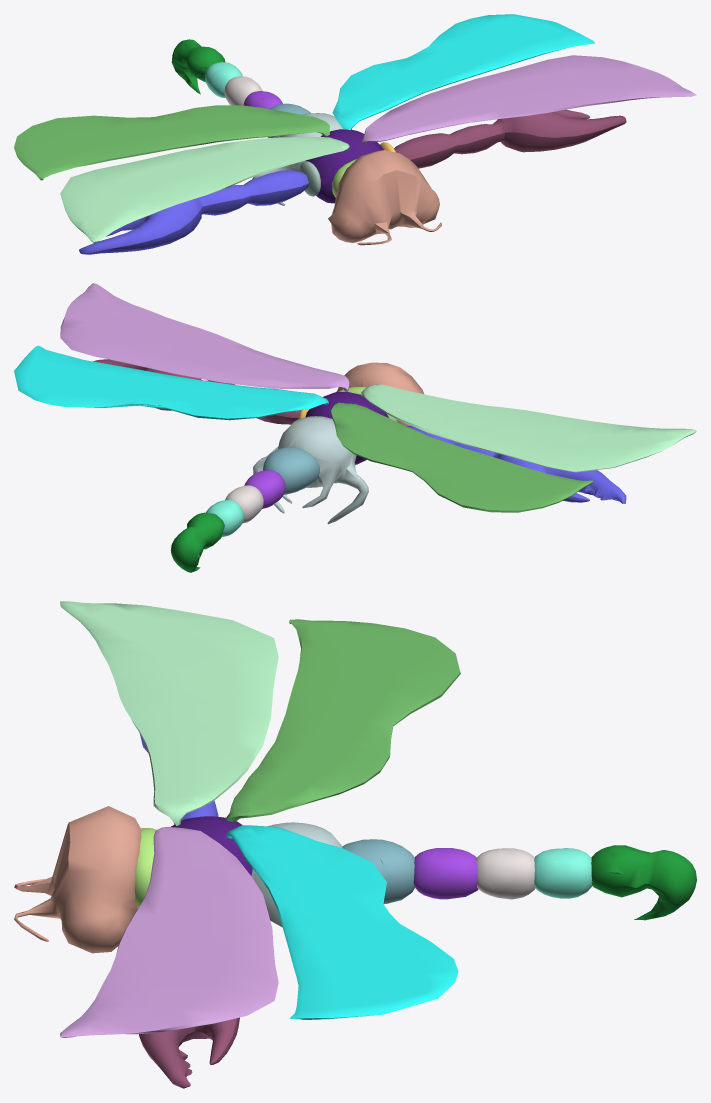
The picture shows the model from 3 angles, top to bottom: view 1: azimuth 30°, elevation 25°; view 2: azimuth 150°, elevation 25°; view 3: azimuth 270°, elevation 25°; orthographic projection. The views are drawn at different scales.
Visible parts, largest first — view 1: 0.026, 0.055, 0.024, 0.002, 0.003, split_parent_15, split_parent_16, 0.021, 0.040, 0.009, 0.048, 0 (+2 smaller); view 2: 0.055, 0.026, 0.024, 0.002, 0, split_parent_16, 0.040, 0.043, 0.003, 0.021, 0.051, split_parent_15 (+2 smaller); view 3: 0.055, 0.026, 0.024, 0.002, 0.003, 0.040, split_parent_15, 0.051, 0.048, 0.009, 0.043, 0.021 (+2 smaller).
Part boxes in pixels (x1,y1,x2,y2): 0.026: (361, 55, 696, 145); 0.055: (60, 137, 349, 242); 0.024: (14, 105, 329, 180); 0.002: (332, 14, 594, 130); 0.003: (328, 150, 441, 245); split_parent_15: (394, 109, 626, 168); split_parent_16: (79, 170, 308, 254); 0.021: (305, 129, 383, 203); 0.040: (171, 39, 225, 94); 0.009: (205, 62, 242, 97); 0.048: (224, 76, 262, 105); 0: (252, 113, 342, 205); 0.055: (361, 384, 696, 472); 0.026: (60, 283, 349, 391); 0.024: (330, 402, 593, 512); 0.002: (14, 345, 328, 420); 0: (253, 416, 368, 524); split_parent_16: (406, 426, 626, 503); 0.040: (170, 512, 224, 572); 0.043: (263, 447, 319, 495); 0.003: (336, 362, 423, 425); 0.021: (305, 392, 388, 464); 0.051: (244, 470, 285, 508); split_parent_15: (93, 359, 300, 424); 0.055: (60, 601, 278, 825); 0.026: (60, 827, 278, 1037); 0.024: (225, 619, 460, 822); 0.002: (226, 825, 458, 1019); 0.003: (14, 806, 142, 953); 0.040: (591, 845, 696, 920); split_parent_15: (139, 1017, 239, 1088); 0.051: (413, 848, 478, 899); 0.048: (476, 848, 535, 899); 0.009: (534, 848, 592, 898); 0.043: (342, 839, 414, 903); 0.021: (171, 816, 252, 875).
Bounding box in the file's own units: 1 × 0.161 × 0.6634.
